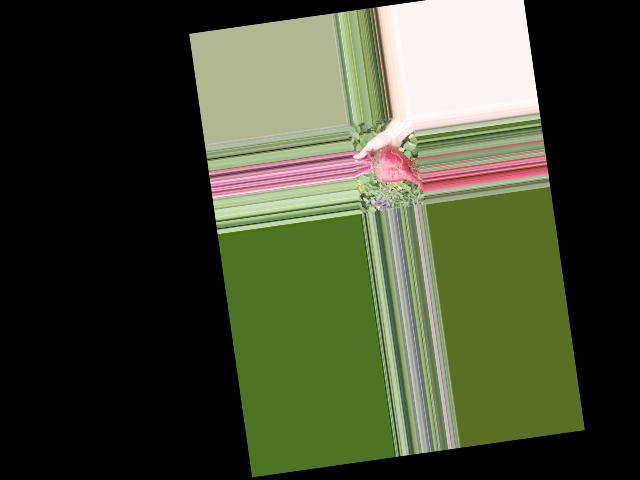beet: (351, 142, 424, 200)
